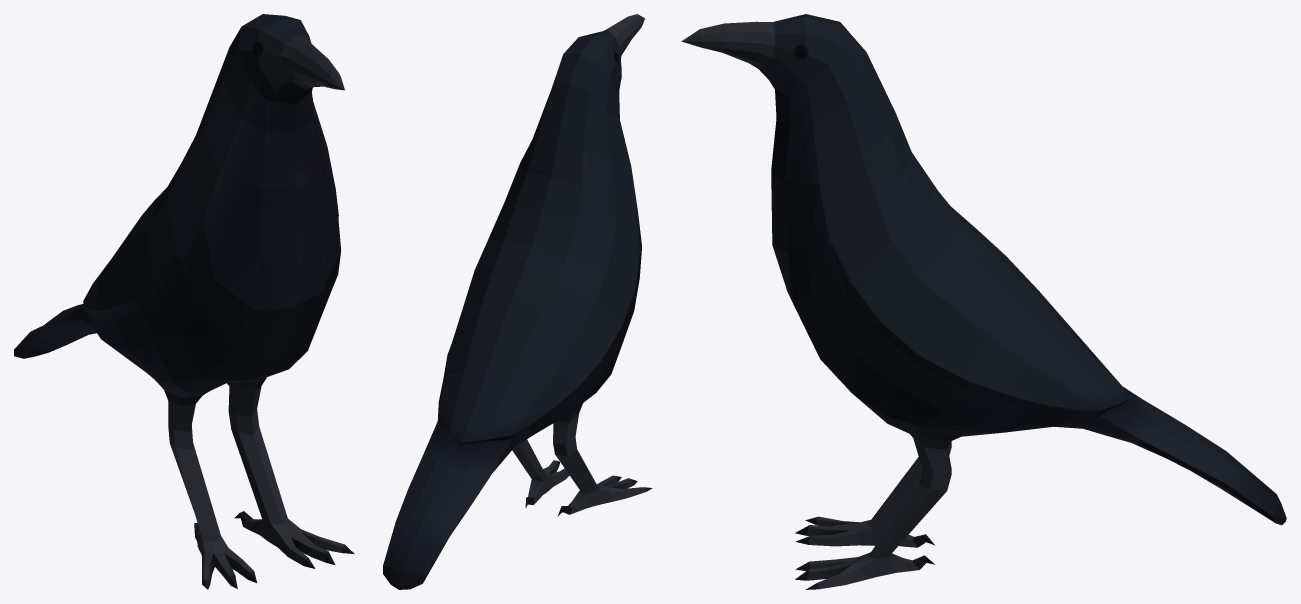
Rendered from bnpgn6o5qNs.glb.
3 renders of one model, left to right at view 1: azimuth 30°, elevation 25°; view 2: azimuth 150°, elevation 25°; view 3: azimuth 270°, elevation 25°, orthographic. The views are drawn at different scales.
Parts seen in each view (by area): view 1: Raven_mesh; view 2: Raven_mesh; view 3: Raven_mesh.
Part boxes in pixels (x1=…): Raven_mesh: x1=14, y1=14, x2=354, y2=589; Raven_mesh: x1=383, y1=14, x2=652, y2=589; Raven_mesh: x1=681, y1=14, x2=1286, y2=589.
Bounding box in the file's own units: 0.3488 × 1 × 1.02.
1 material, 1 textured.
